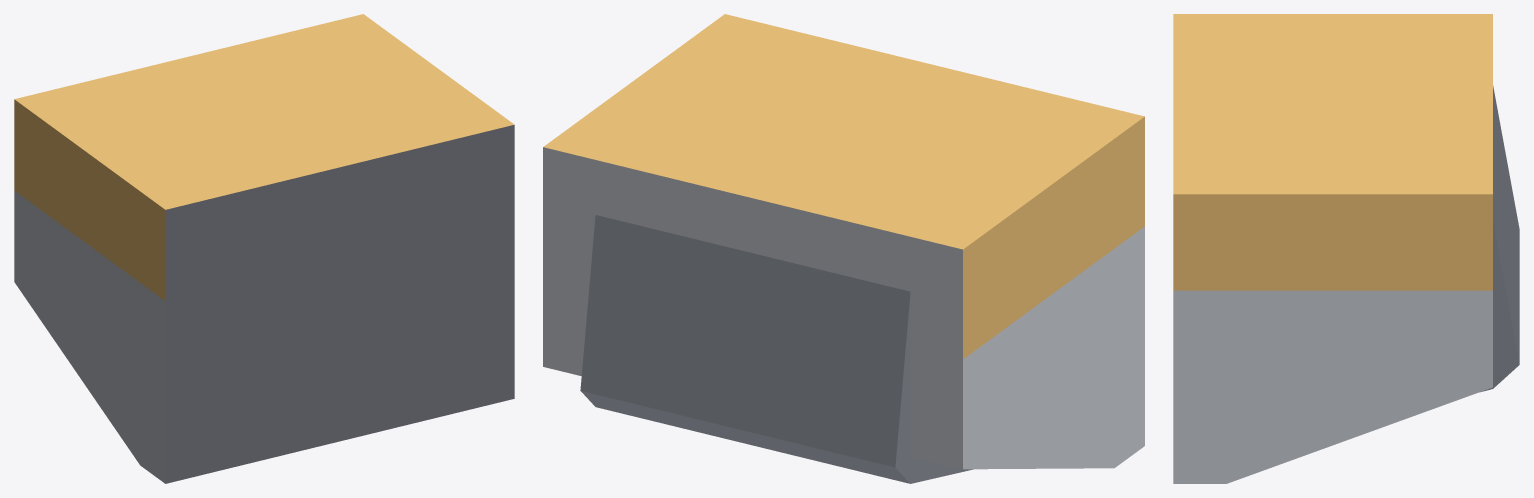
File: nose.glb
3 views of the same model, side by side, from view 1: azimuth 30°, elevation 25°; view 2: azimuth 150°, elevation 25°; view 3: azimuth 270°, elevation 25° (orthographic). The views are drawn at different scales.
Size of the model in its own units: 1.6 by 1.2 by 1.3.
